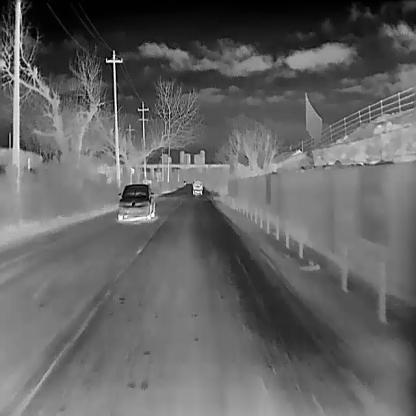car: (117, 182, 154, 220), (192, 179, 202, 194)
